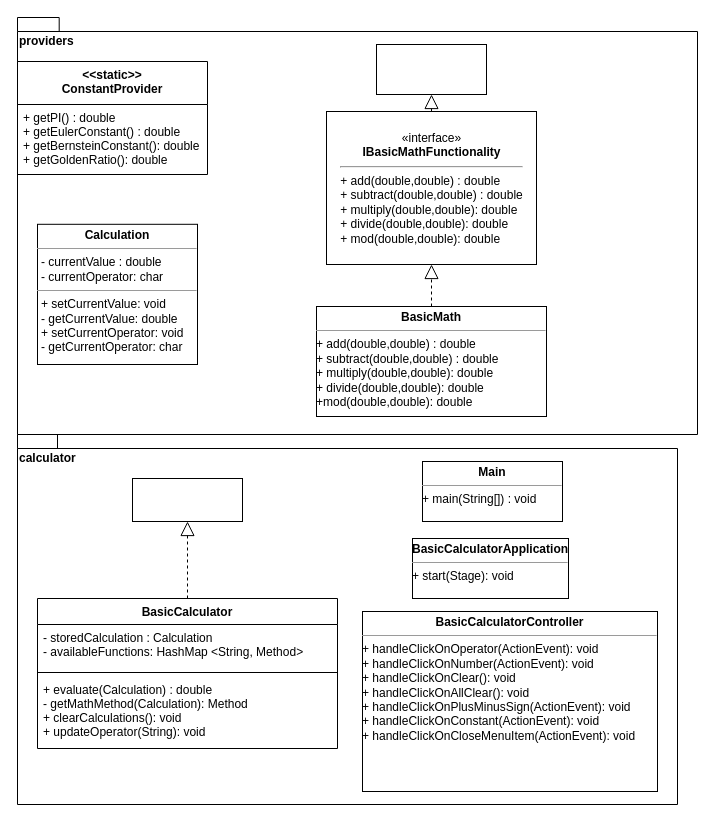
The diagram is 715 pixels wide and 822 high, and some of its shapes have lost their labels. Here are the shapes that lost their labels. From the top down, the centre of each, then its label:
At (431,69): "«interface» IMath".
At (187,500): "«interface» ICalculator<T>".
